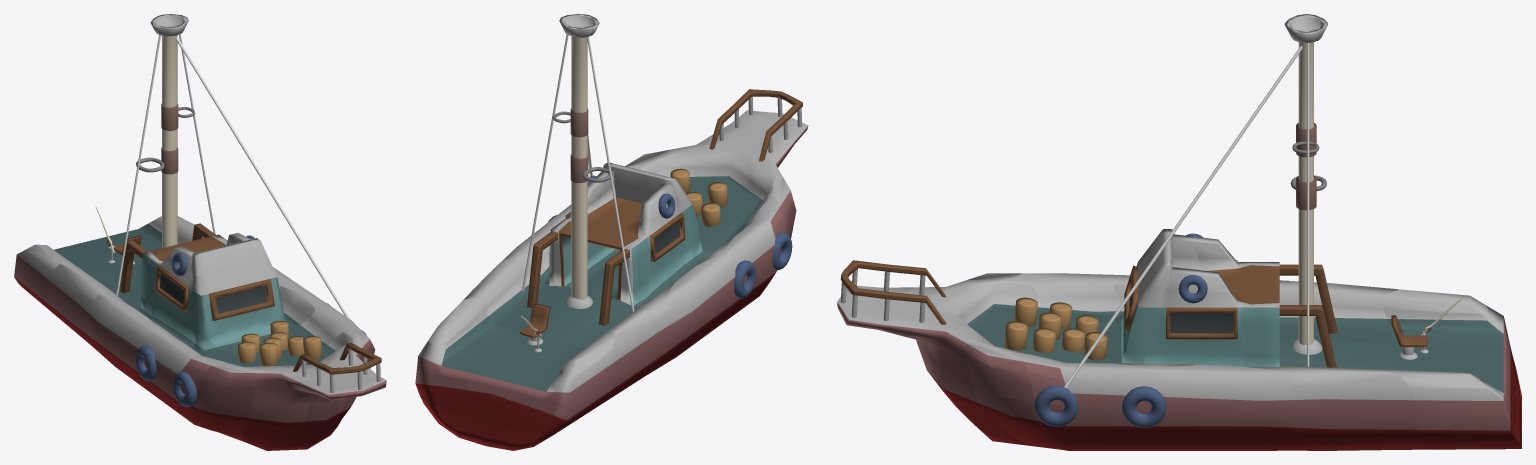
The model's file is Boat UV 10000 poly.fbx.
3 views of the same model, side by side, from view 1: azimuth 30°, elevation 25°; view 2: azimuth 150°, elevation 25°; view 3: azimuth 270°, elevation 25° (orthographic). The views are drawn at different scales.
Parts seen in each view (by area): view 1: pCube10; view 2: pCube10; view 3: pCube10.
Part boxes in pixels (x1,y1,x2,y2): pCube10: (14, 14, 386, 450); pCube10: (415, 14, 808, 450); pCube10: (837, 14, 1521, 450).
Size of the model in its own units: 6.77 by 11.6 by 17.54.
